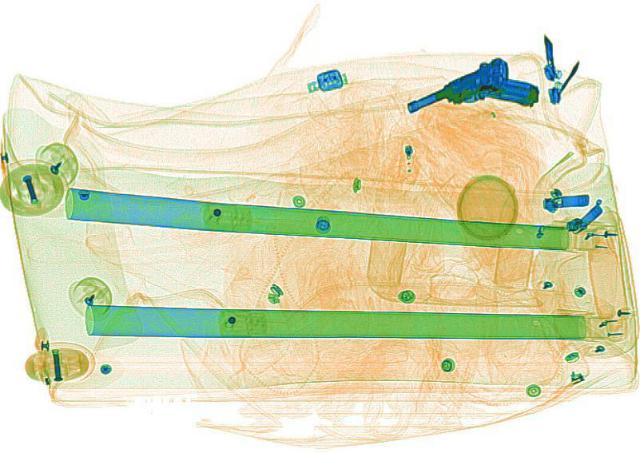Gun: (393, 54, 545, 124)
